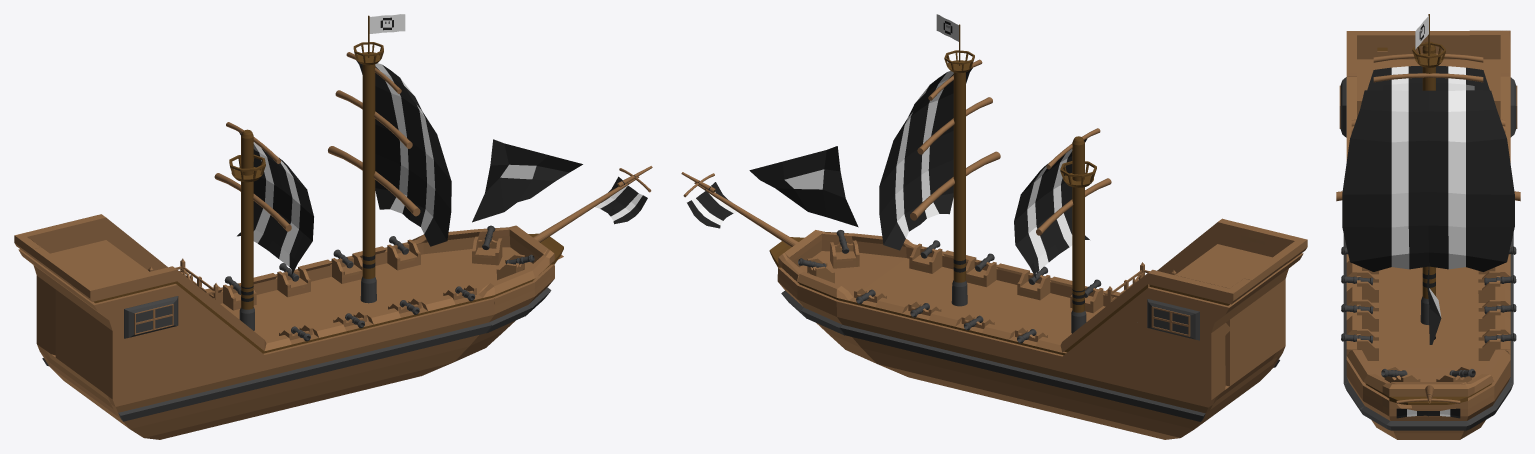
File: pirate_ship.glb
The picture shows the model from 3 angles, left to right: view 1: azimuth 30°, elevation 25°; view 2: azimuth 150°, elevation 25°; view 3: azimuth 270°, elevation 25°; orthographic projection. The views are drawn at different scales.
Visible parts, largest first — view 1: Cube; view 2: Cube; view 3: Cube.
Part boxes in pixels (x1,y1,x2,y2): Cube: (14,14,652,439); Cube: (681,14,1307,439); Cube: (1336,14,1520,439).
Size of the model in its own units: 40.85 by 22.94 by 10.06.
Materials: 1 (1 with a texture image).
